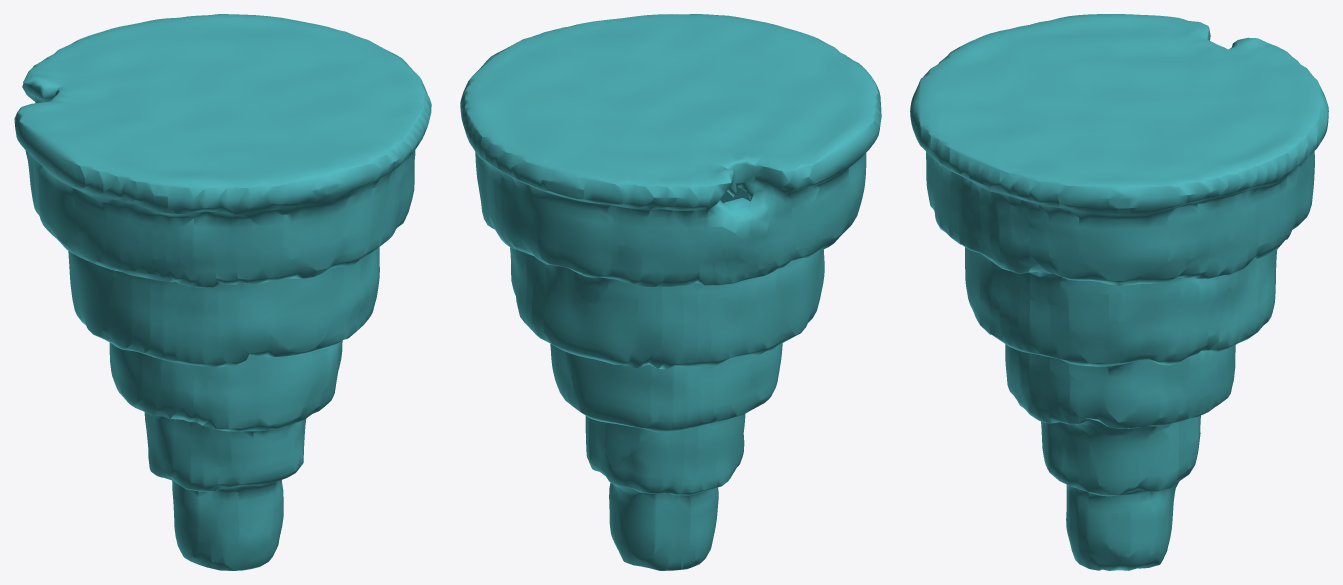
File: lamp_7_6.obj
3 renders of one model, left to right at view 1: azimuth 30°, elevation 25°; view 2: azimuth 150°, elevation 25°; view 3: azimuth 270°, elevation 25°, orthographic.
Bounding box in the file's own units: 0.6564 × 0.7974 × 0.66.
